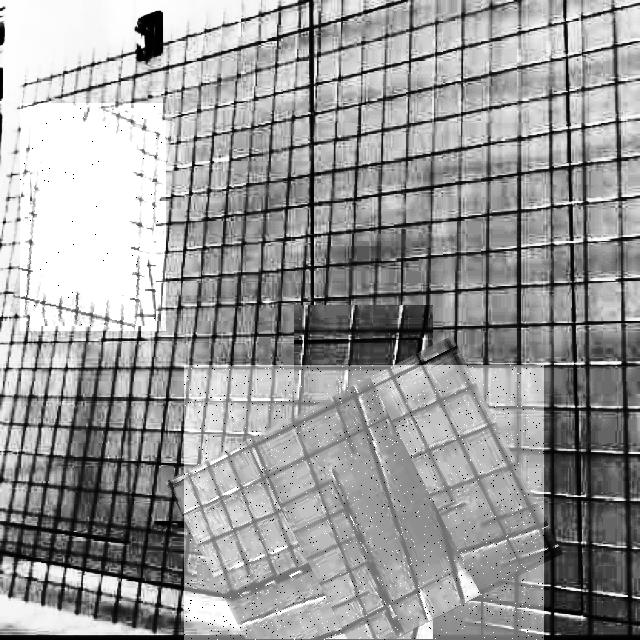anomaly-fence: (184, 365, 544, 640), (20, 103, 166, 331)
